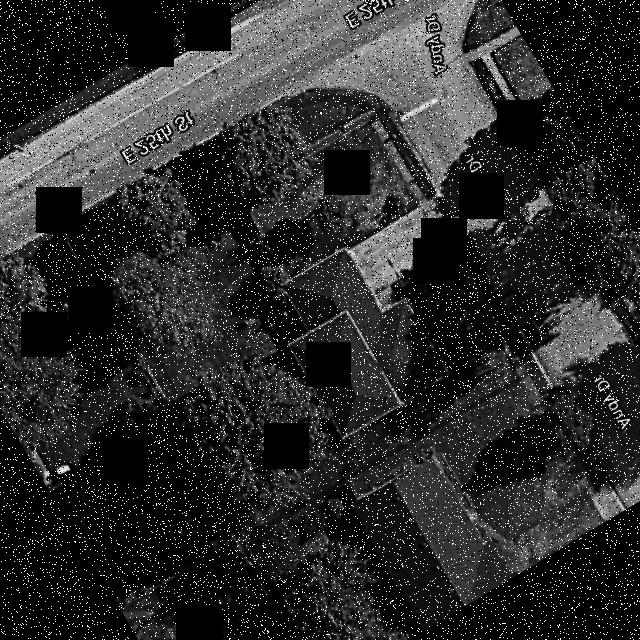Driveway: (349, 197, 458, 310)
House: (281, 250, 448, 438)
Other: (255, 287, 306, 346)
Sidewalk: (447, 245, 527, 375), (369, 115, 428, 205)
